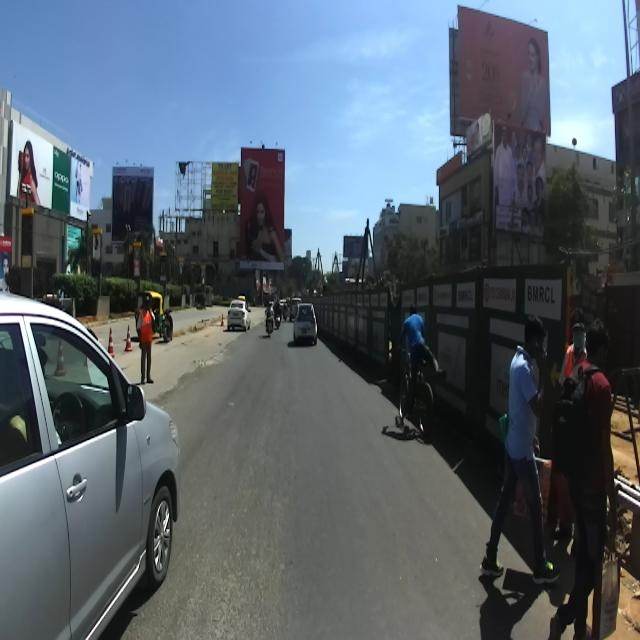car ahead at: (0, 283, 180, 640)
person ahead at: (482, 306, 556, 594)
